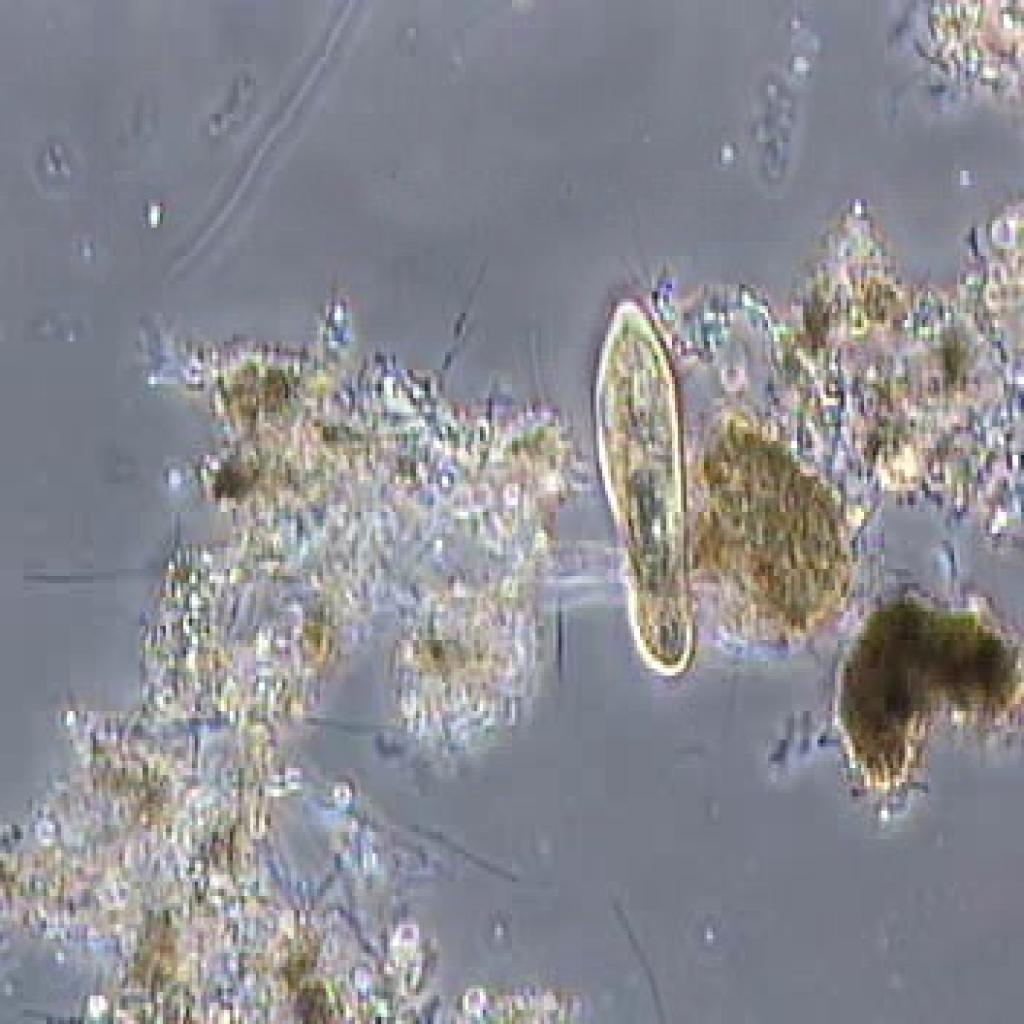Paramecium: (572, 276, 720, 684)
